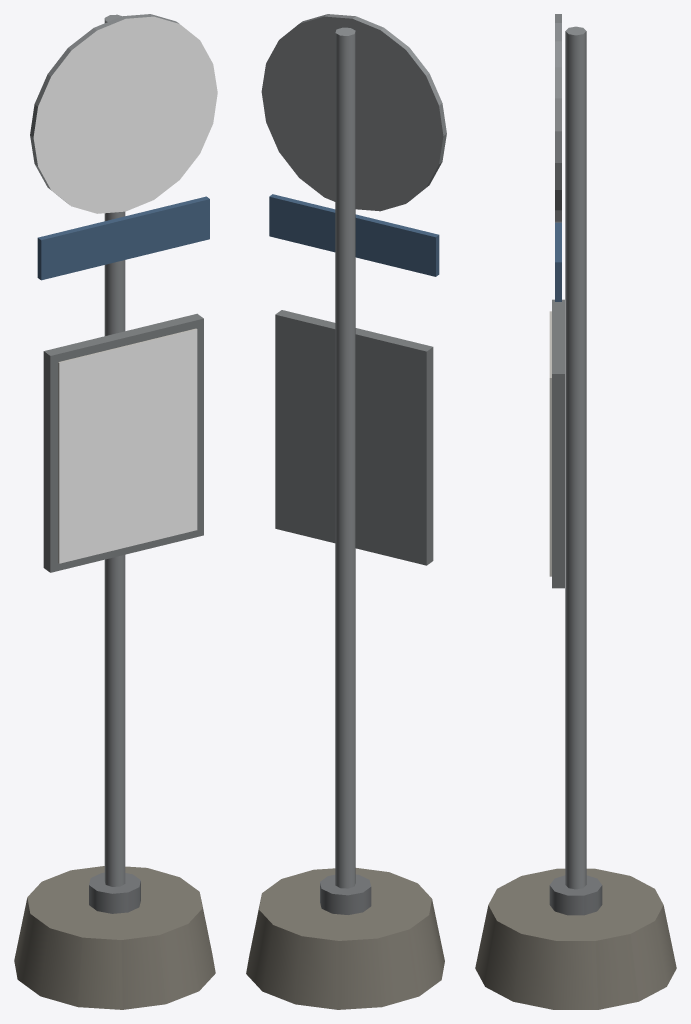
Rendered from street_bus_stop_01.glb.
The picture shows the model from 3 angles, left to right: view 1: azimuth 30°, elevation 25°; view 2: azimuth 150°, elevation 25°; view 3: azimuth 270°, elevation 25°; orthographic projection.
Parts seen in each view (by area): view 1: street_bus_stop_01; view 2: street_bus_stop_01; view 3: street_bus_stop_01.
Part boxes in pixels (box(x1,y1,x2,y2)): street_bus_stop_01: box(14, 14, 217, 1009); street_bus_stop_01: box(246, 14, 446, 1009); street_bus_stop_01: box(475, 14, 676, 1009).
Size of the model in its own units: 0.48 by 2.38 by 0.46.
